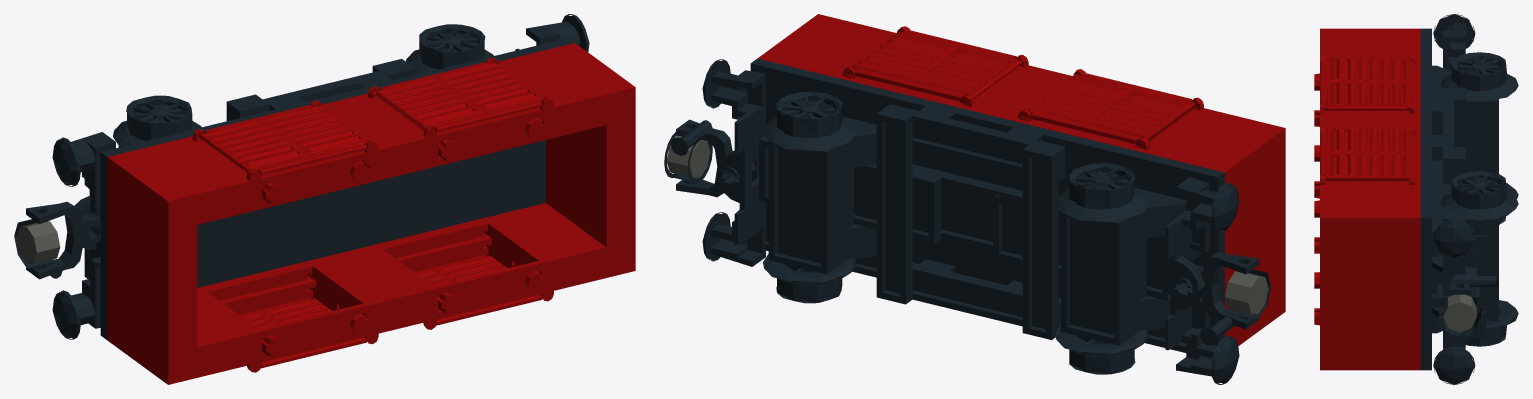
Rendered from coach.glb.
3 views of the same model, side by side, from view 1: azimuth 30°, elevation 25°; view 2: azimuth 150°, elevation 25°; view 3: azimuth 270°, elevation 25° (orthographic). The views are drawn at different scales.
Size of the model in its own units: 159 by 52.8 by 58.4.
